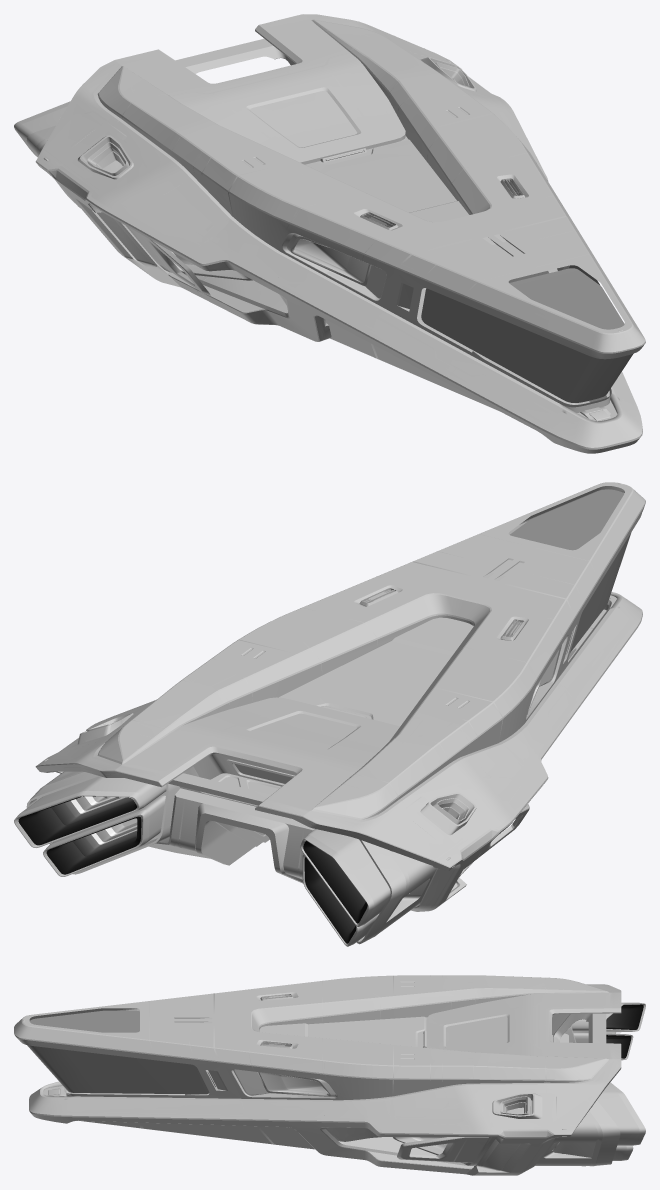
Rendered from Phobos_Starhopper_Exterior.FBX.
3 views of the same model, one above another, from view 1: azimuth 30°, elevation 25°; view 2: azimuth 150°, elevation 25°; view 3: azimuth 270°, elevation 25° (orthographic). The views are drawn at different scales.
Visible parts, largest first — view 1: ExtBody, Windows, ExtDecal_Transp, ExtDecal_Opaque, Ext_AddedAO; view 2: ExtBody, ExtDecal_Opaque, ExtDecal_Transp, ExtEngineGlow_L, Windows, ExtEngineGlow_R; view 3: ExtBody, Windows, ExtDecal_Transp, ExtDecal_Opaque, Ext_AddedAO, ExtEngineGlow_R.
Part boxes in pixels (bbox=[...]): ExtBody: bbox=[14, 14, 645, 453]; Windows: bbox=[421, 265, 633, 402]; ExtDecal_Transp: bbox=[61, 36, 642, 453]; ExtDecal_Opaque: bbox=[36, 28, 637, 432]; Ext_AddedAO: bbox=[174, 239, 368, 282]; ExtBody: bbox=[14, 482, 645, 946]; ExtDecal_Opaque: bbox=[39, 483, 637, 936]; ExtDecal_Transp: bbox=[38, 483, 642, 911]; ExtEngineGlow_L: bbox=[18, 796, 141, 874]; Windows: bbox=[234, 489, 630, 783]; ExtEngineGlow_R: bbox=[303, 841, 367, 943]; ExtBody: bbox=[14, 975, 645, 1175]; Windows: bbox=[27, 1010, 209, 1094]; ExtDecal_Transp: bbox=[18, 975, 618, 1175]; ExtDecal_Opaque: bbox=[19, 975, 621, 1175]; Ext_AddedAO: bbox=[259, 1004, 639, 1163]; ExtEngineGlow_R: bbox=[606, 1004, 643, 1058].
Size of the model in its own units: 1211 by 418 by 2204.
